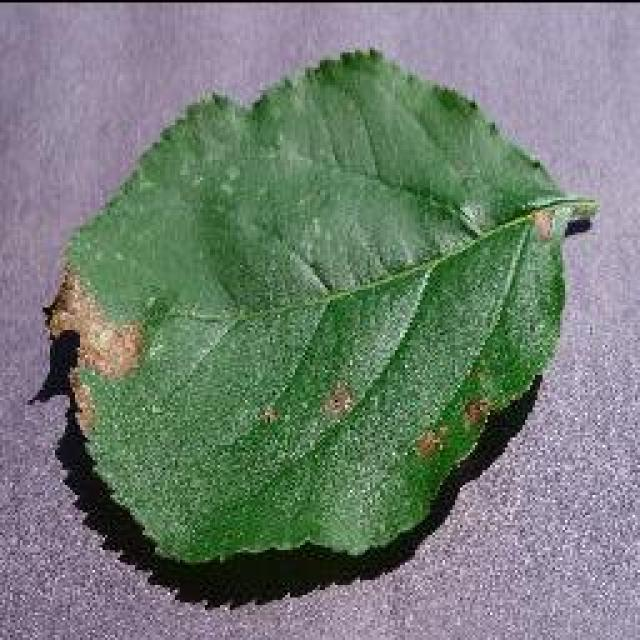Black_rot: (38, 45, 598, 567)
